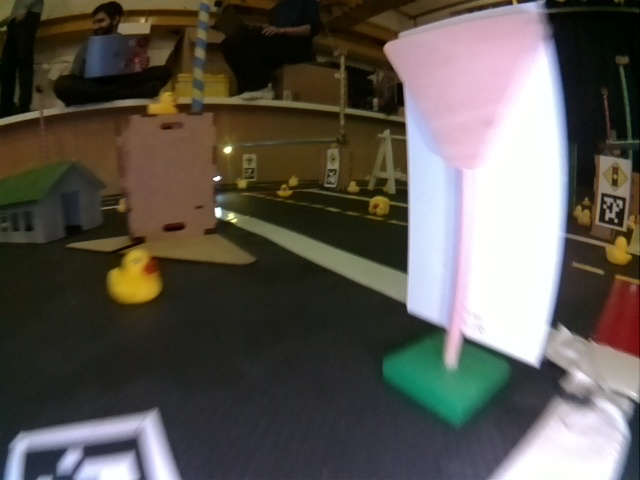Duckie: (109, 251, 163, 302), (605, 238, 631, 264), (148, 93, 177, 113), (369, 197, 390, 215), (577, 209, 591, 226), (277, 185, 290, 197), (348, 181, 356, 191)
Intersection sign: (328, 151, 338, 167)
QR code: (8, 406, 178, 476), (600, 192, 626, 230), (325, 168, 338, 185)
Signal sign: (603, 160, 630, 191)
Traffic light: (223, 144, 231, 154)
